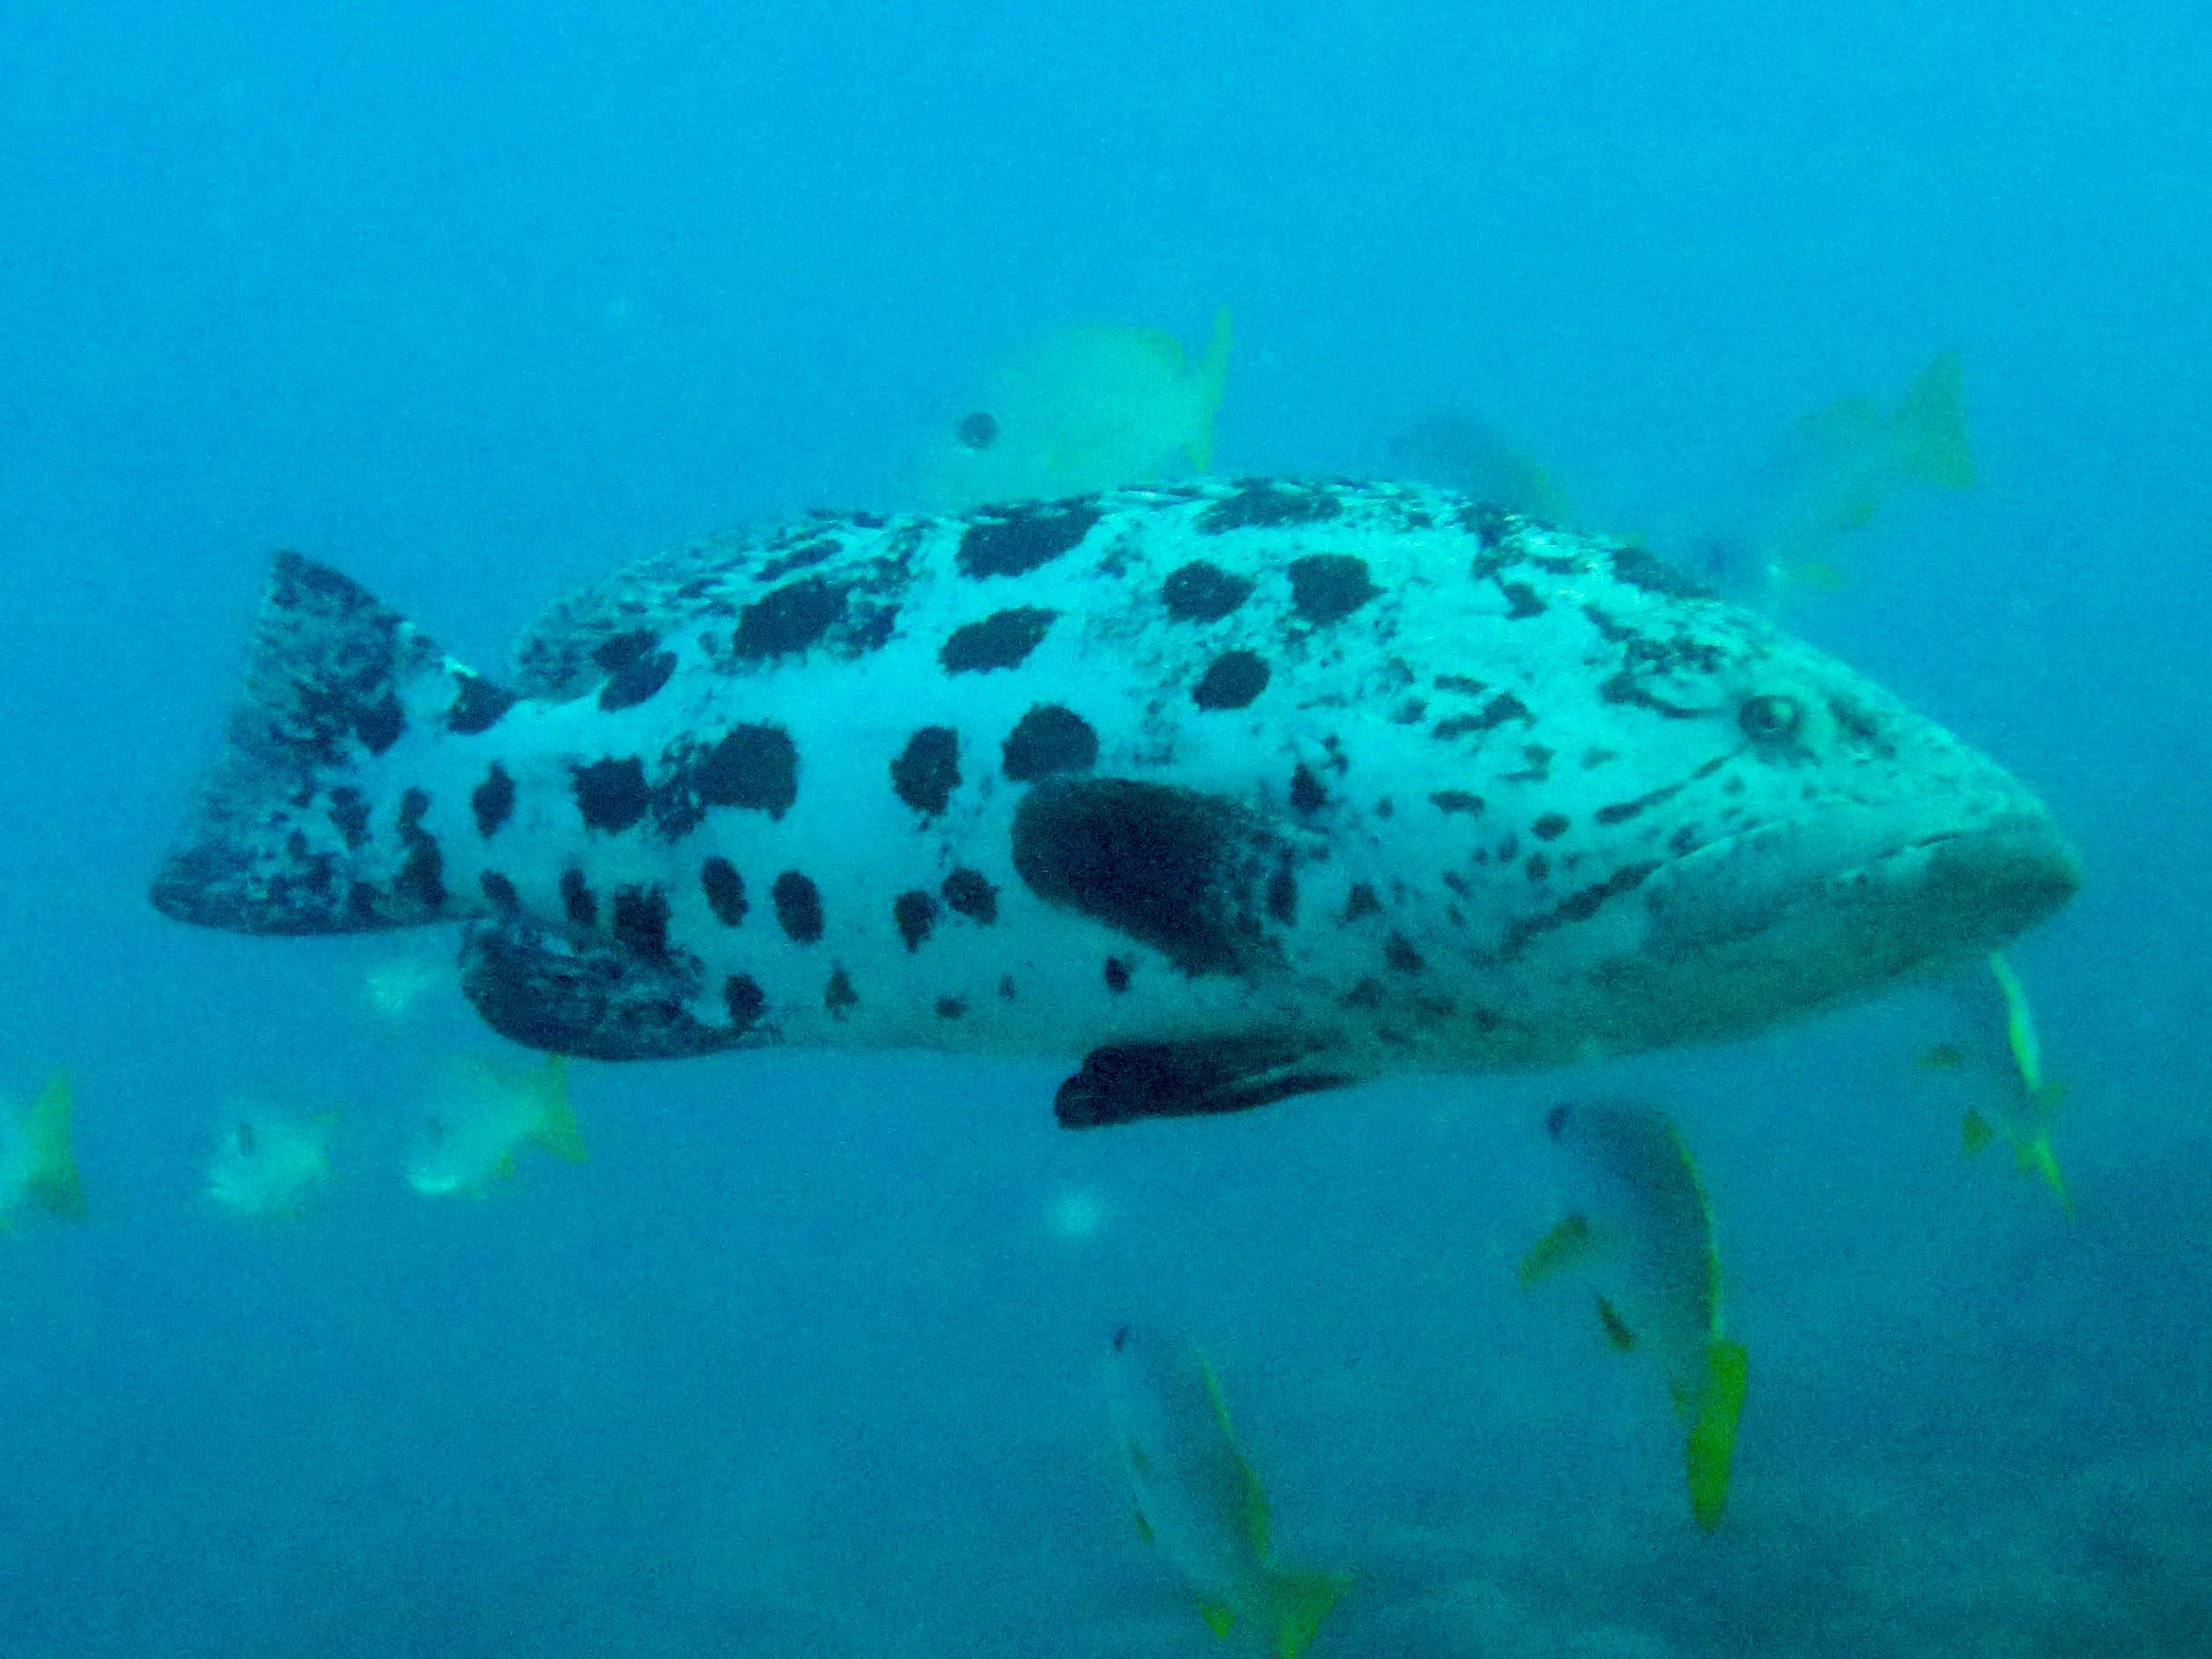Fish: (120, 462, 2090, 1089)
